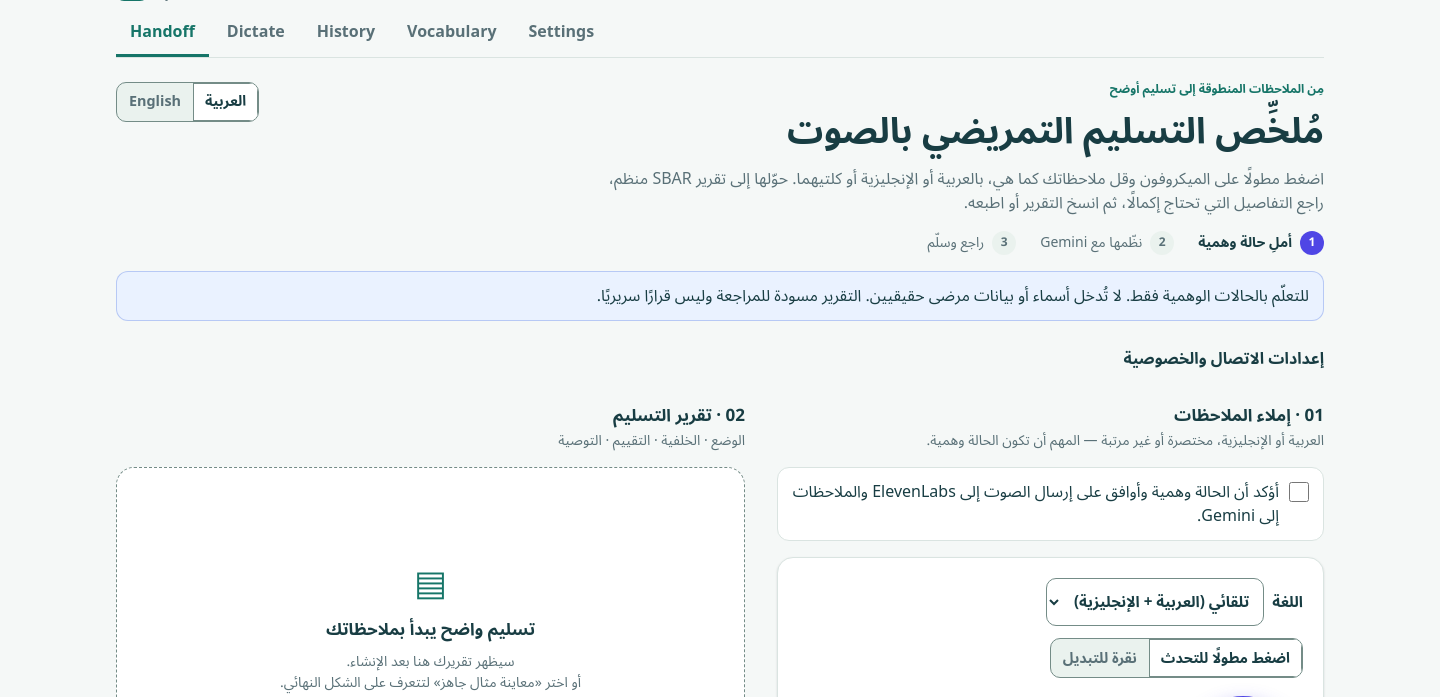
Scenario: Handoff tab › hides the report after a language switch
Click the button "English" at (155, 102), box [117,83,193,121]
(page scrolled)
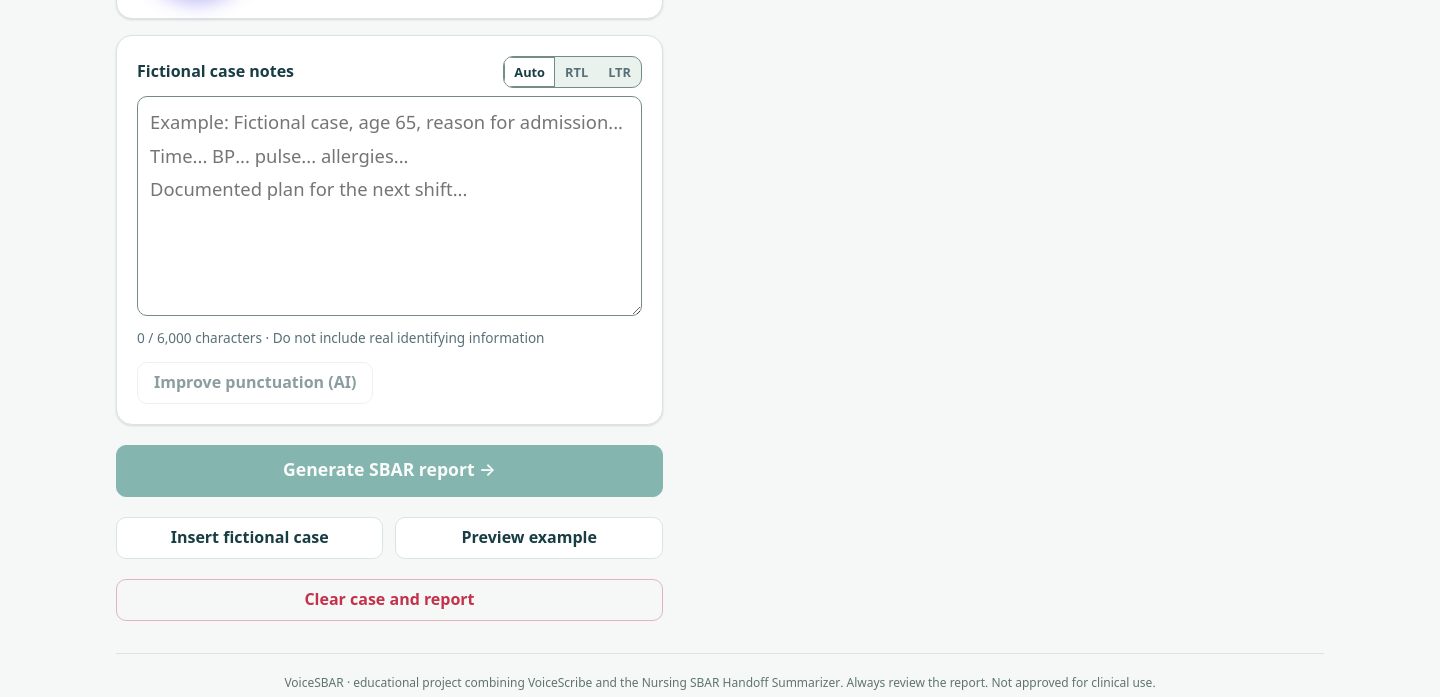
Click the button "Insert fictional case" at (250, 538), box [116,517,384,559]
(page scrolled)
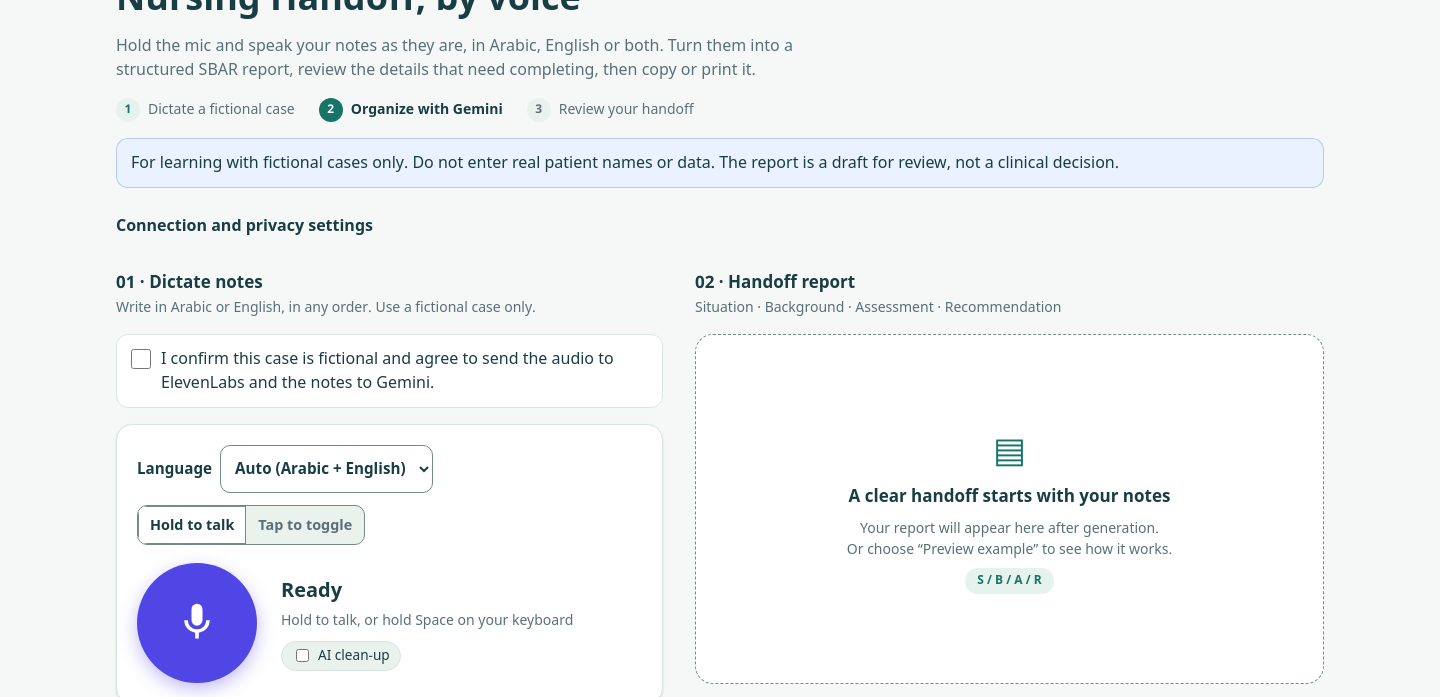
Click the checkbox labelled "I confirm this case is fictional" at (141, 359), box [131,349,151,369]
(page scrolled)
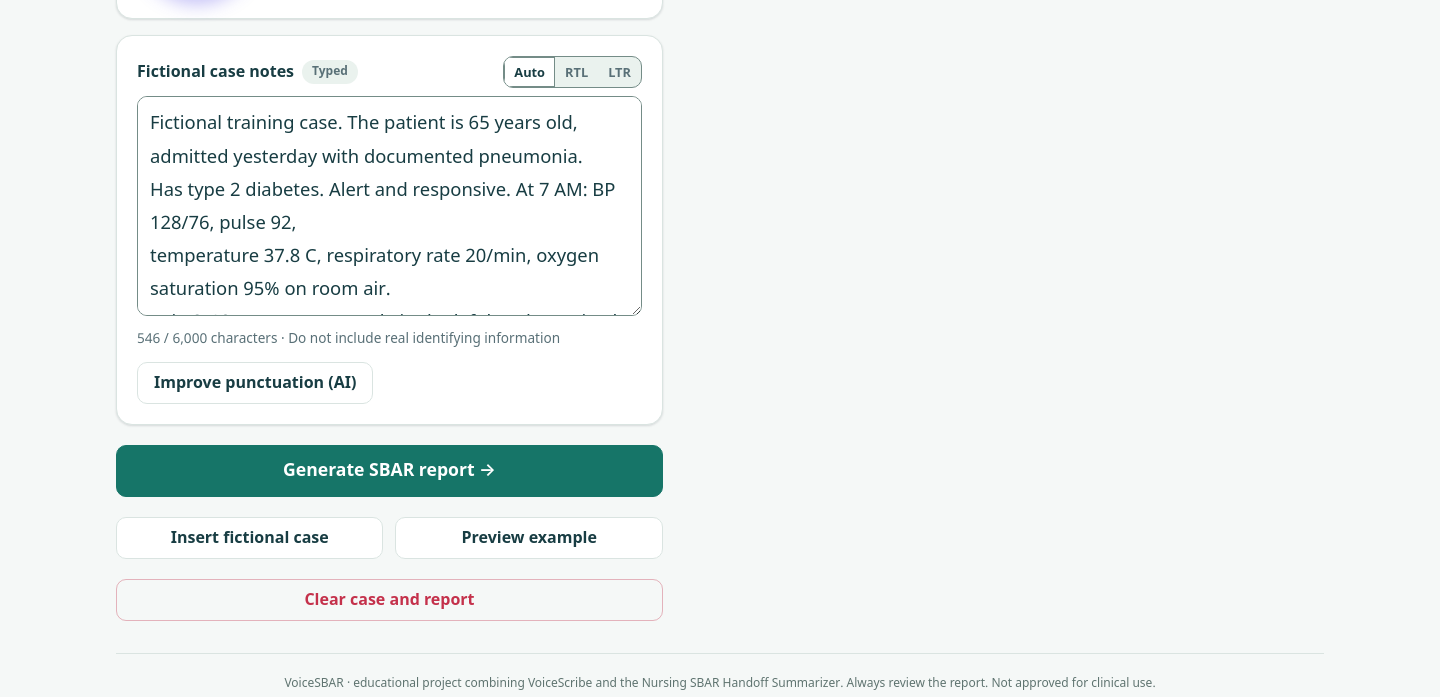
Click the button "Generate SBAR report →" at (390, 471), box [116,445,663,497]
(page scrolled)
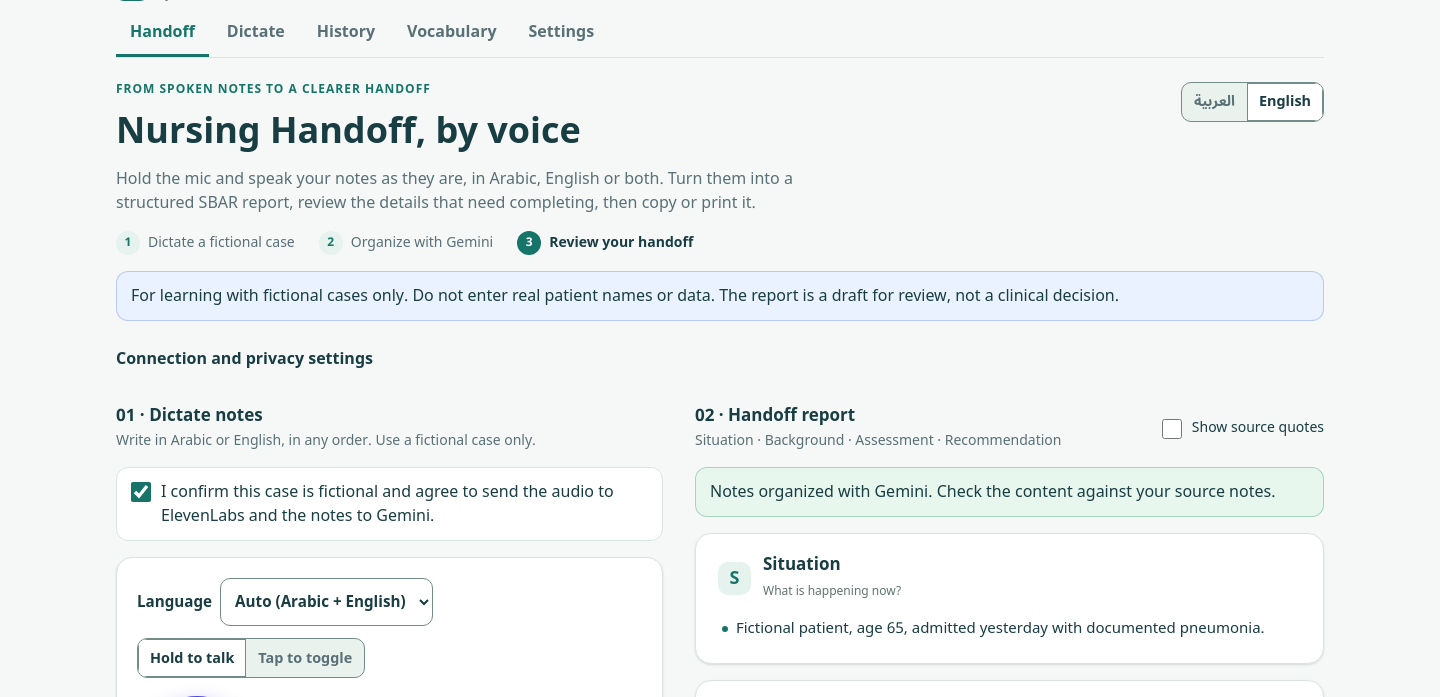
Now the text "Notes organized with Gemini. Check the content against your source notes." is shown, box [695,467,1324,517]
Click the button "العربية" at (1214, 102), box [1182,83,1247,121]
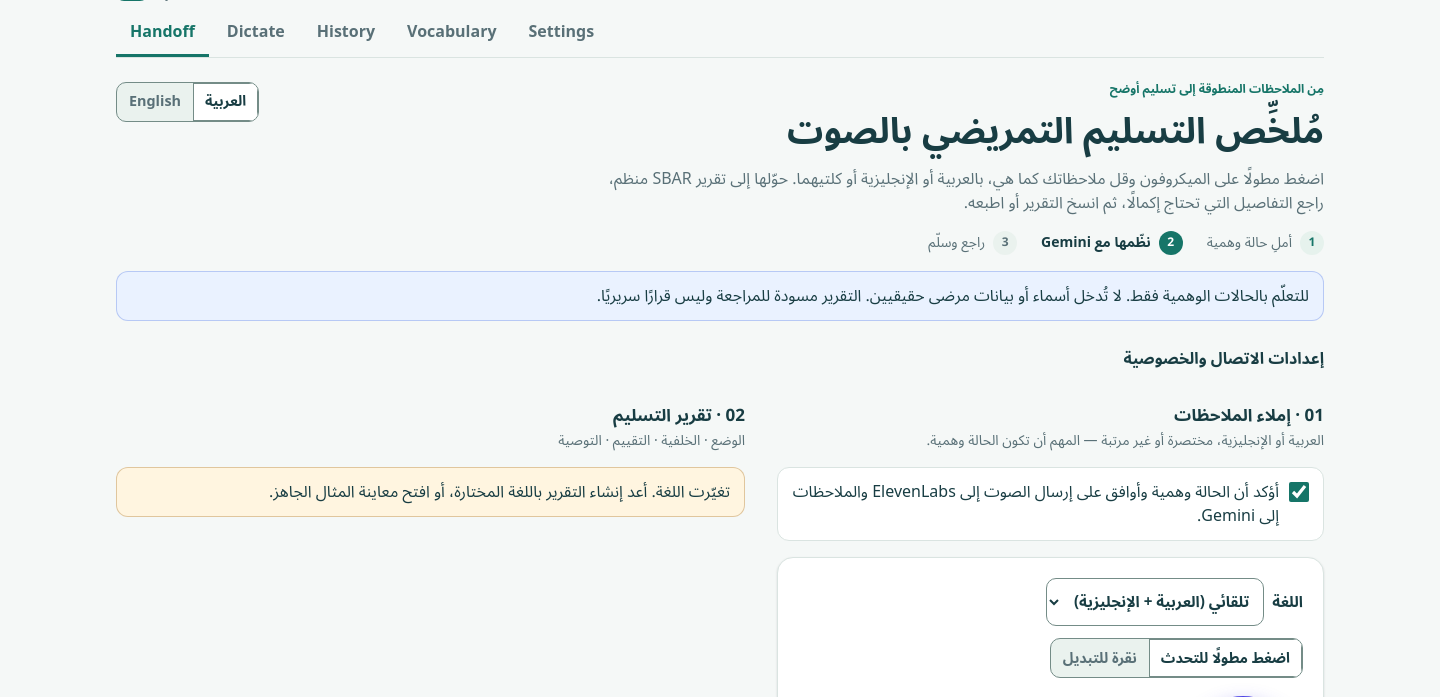
Now the text "تغيّرت اللغة. أعد إنشاء التقرير باللغة المختارة، أو افتح معاينة المثال الجاهز." is shown, box [116,467,745,517]
Click the button "English" at (155, 102), box [117,83,193,121]
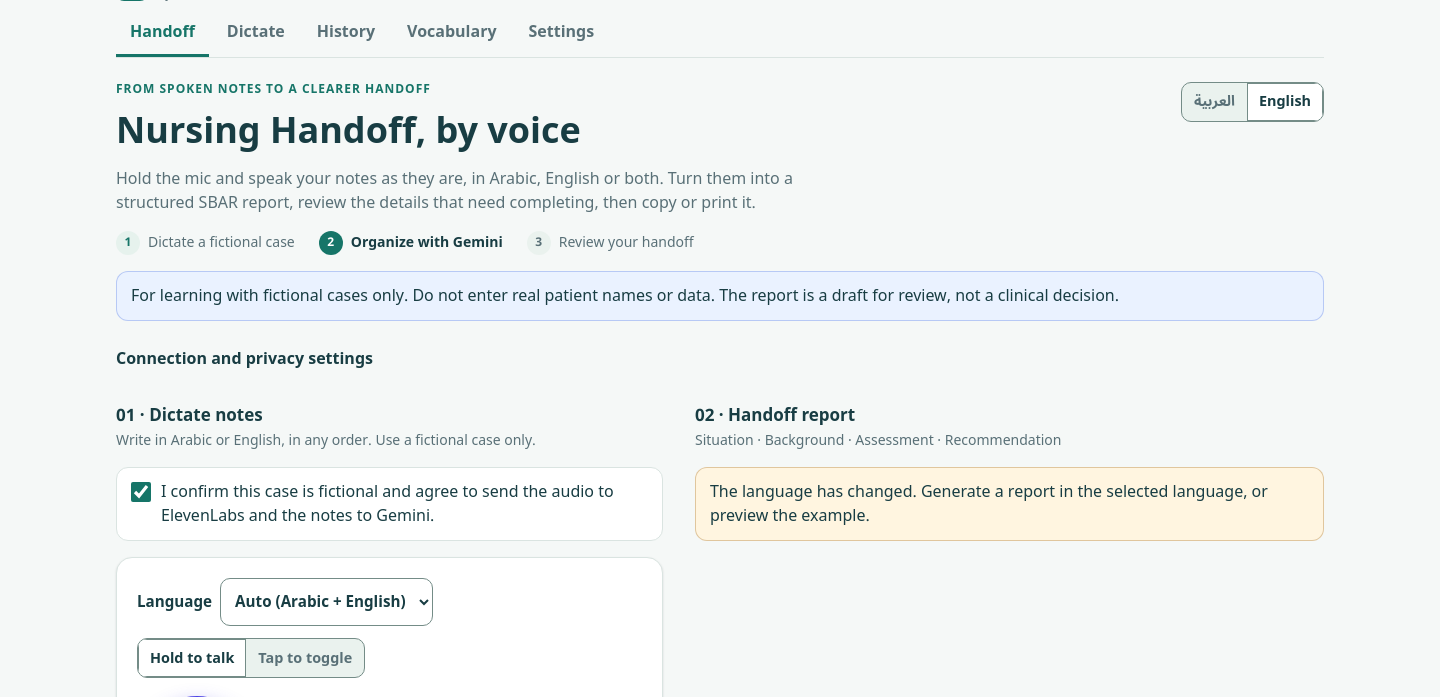
Now the text "The language has changed. Generate a report in the selected language, or preview the example." is shown, box [710,475,1268,533]
